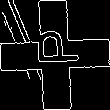P_W: (29, 35, 81, 75)
